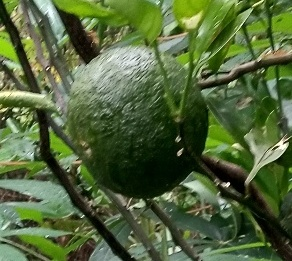Cam: (66, 44, 210, 198)
